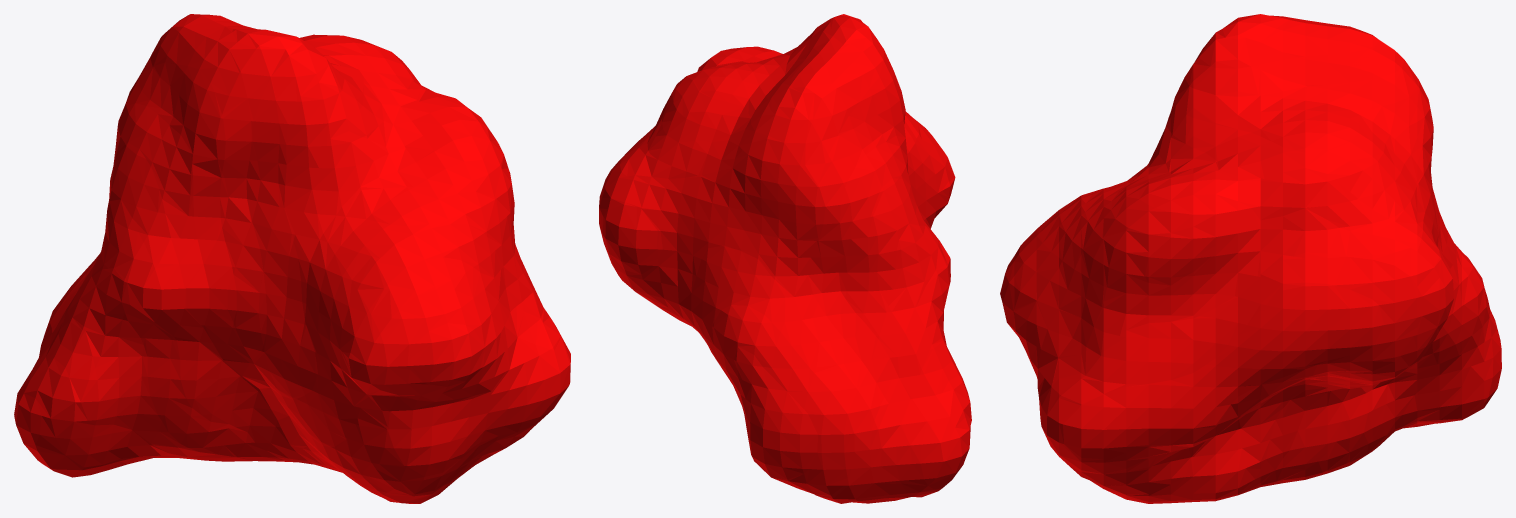
File: ygfB_coarse.dae
3 views of the same model, side by side, from view 1: azimuth 30°, elevation 25°; view 2: azimuth 150°, elevation 25°; view 3: azimuth 270°, elevation 25° (orthographic). The views are drawn at different scales.
Visible parts, largest first — view 1: ygfB; view 2: ygfB; view 3: ygfB.
Boxes of the visible parts, bbox=[...] form: ygfB: bbox=[14, 14, 570, 503]; ygfB: bbox=[599, 14, 971, 503]; ygfB: bbox=[1000, 14, 1501, 503].
Size of the model in its own units: 43.74 by 46.24 by 47.18.
